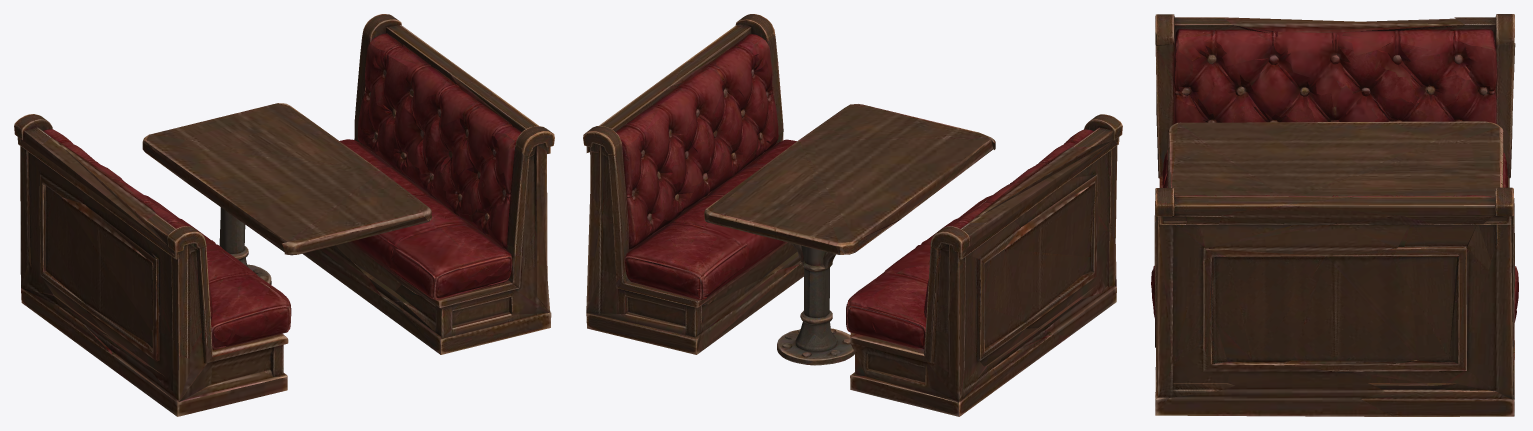
Rendered from booth.glb.
3 renders of one model, left to right at view 1: azimuth 30°, elevation 25°; view 2: azimuth 150°, elevation 25°; view 3: azimuth 270°, elevation 25°, orthographic. The views are drawn at different scales.
Visible parts, largest first — view 1: Mesh_0; view 2: Mesh_0; view 3: Mesh_0.
Part boxes in pixels (x1,y1,x2,y2): Mesh_0: (14,14,554,416); Mesh_0: (583,14,1122,416); Mesh_0: (1151,14,1518,416).
Bounding box in the file's own units: 1.9 × 0.9518 × 1.43.
1 material, 1 textured.
